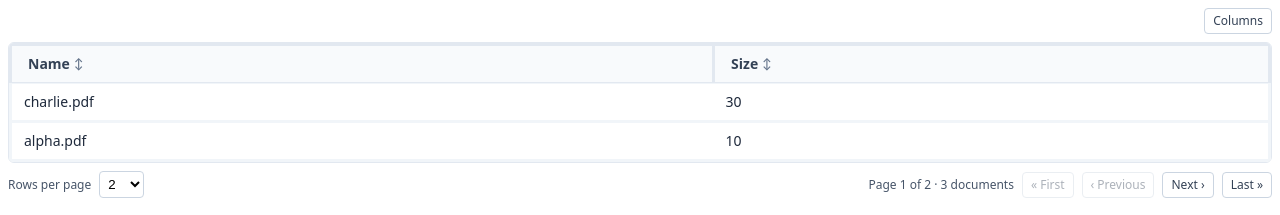
Test: DataTable › pages client-side
The image size is (1280, 215).
Expected: the text "Page 1 of 2 · 3 documents" is shown, [868, 176, 1014, 192]
Click the button "Next ›" at (1188, 184), box [1162, 172, 1214, 198]
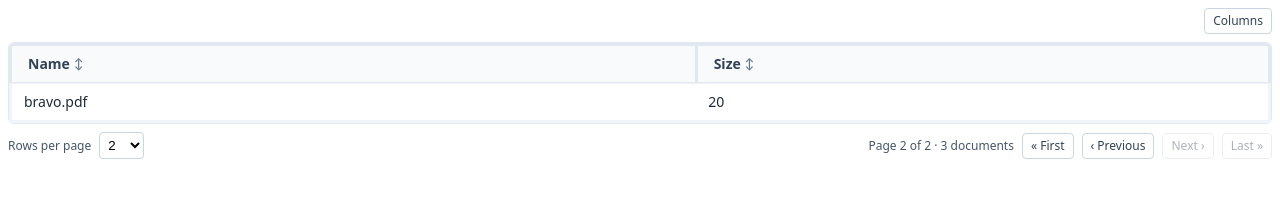
Expected: the text "Page 2 of 2 · 3 documents" is shown, [868, 138, 1014, 154]
Expected: the button "Next ›" is disabled, [1162, 132, 1214, 158]
